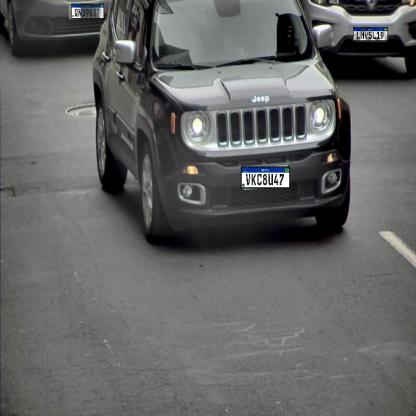PlacaM: (241, 166, 290, 188), (71, 3, 104, 19), (353, 27, 388, 41)
